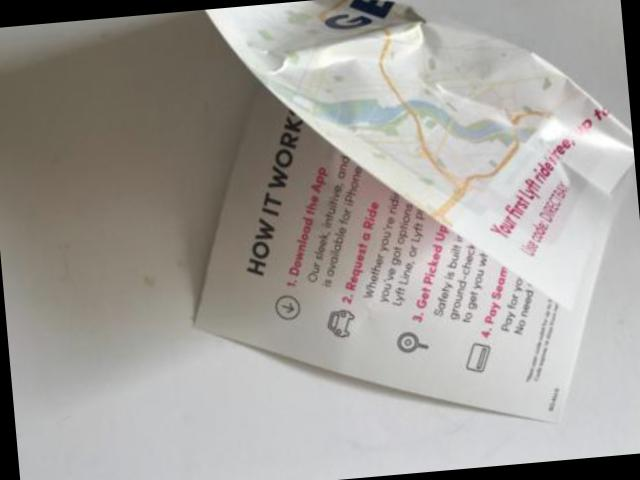cardboard paper: (198, 0, 635, 423)
